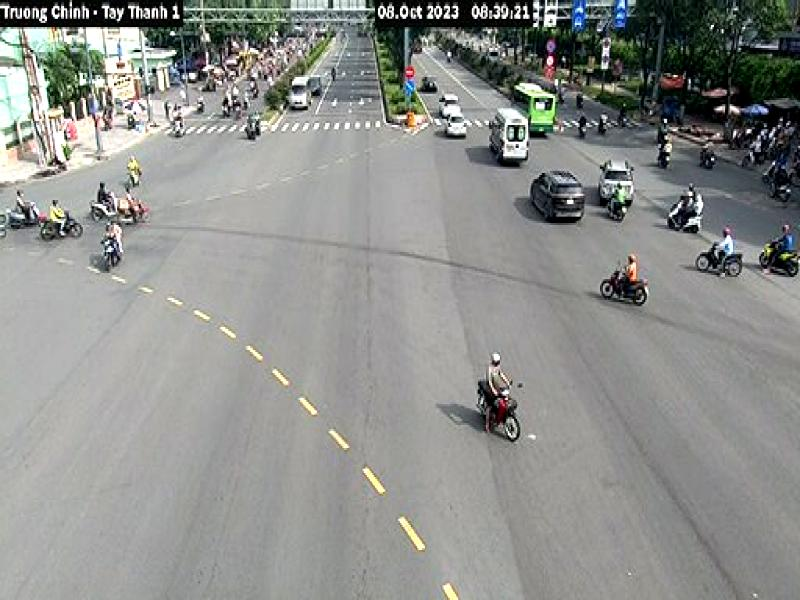bus: (512, 82, 556, 139)
car: (530, 170, 586, 224), (489, 108, 530, 166), (601, 158, 635, 205)
motorcycle: (477, 376, 521, 443), (600, 266, 648, 308)
